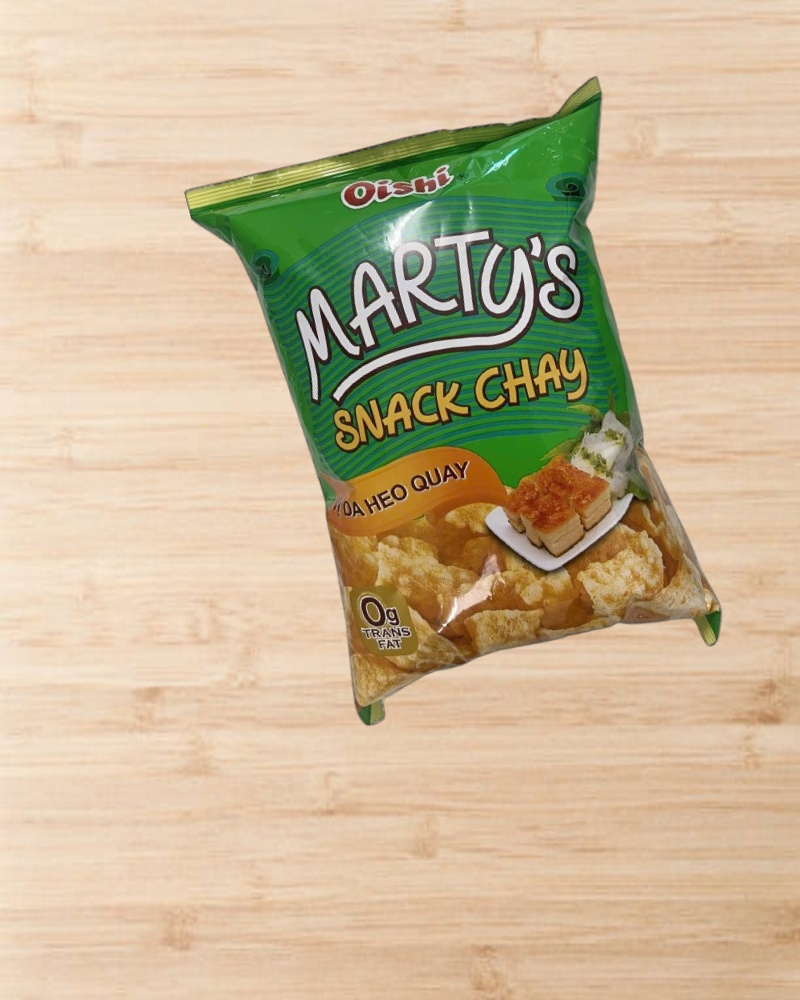Snack chay: (184, 76, 748, 747)
